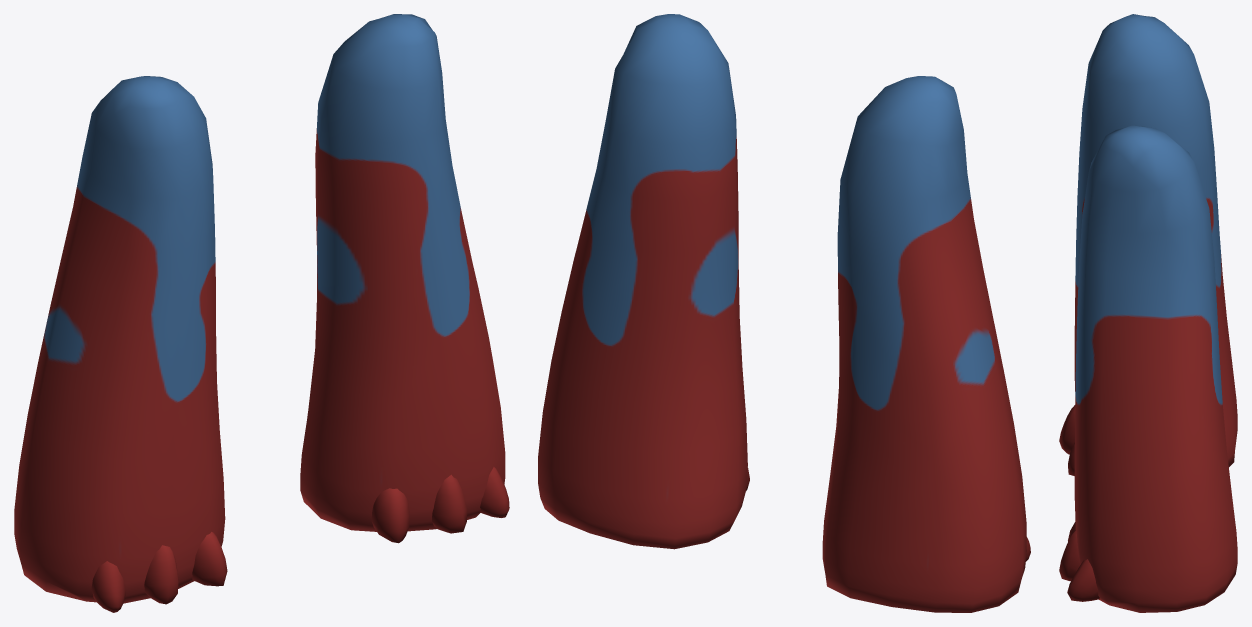
The model's file is devil_leg1.fbx.
3 renders of one model, left to right at view 1: azimuth 30°, elevation 25°; view 2: azimuth 150°, elevation 25°; view 3: azimuth 270°, elevation 25°, orthographic. The views are drawn at different scales.
Parts seen in each view (by area): view 1: polySurface2; view 2: polySurface2; view 3: polySurface2.
Part boxes in pixels (<box>): polySurface2: <box>14,14,509,612</box>; polySurface2: <box>538,14,1030,612</box>; polySurface2: <box>1059,14,1237,612</box>.
Bounding box in the file's own units: 1.75 × 1.79 × 0.6527.
